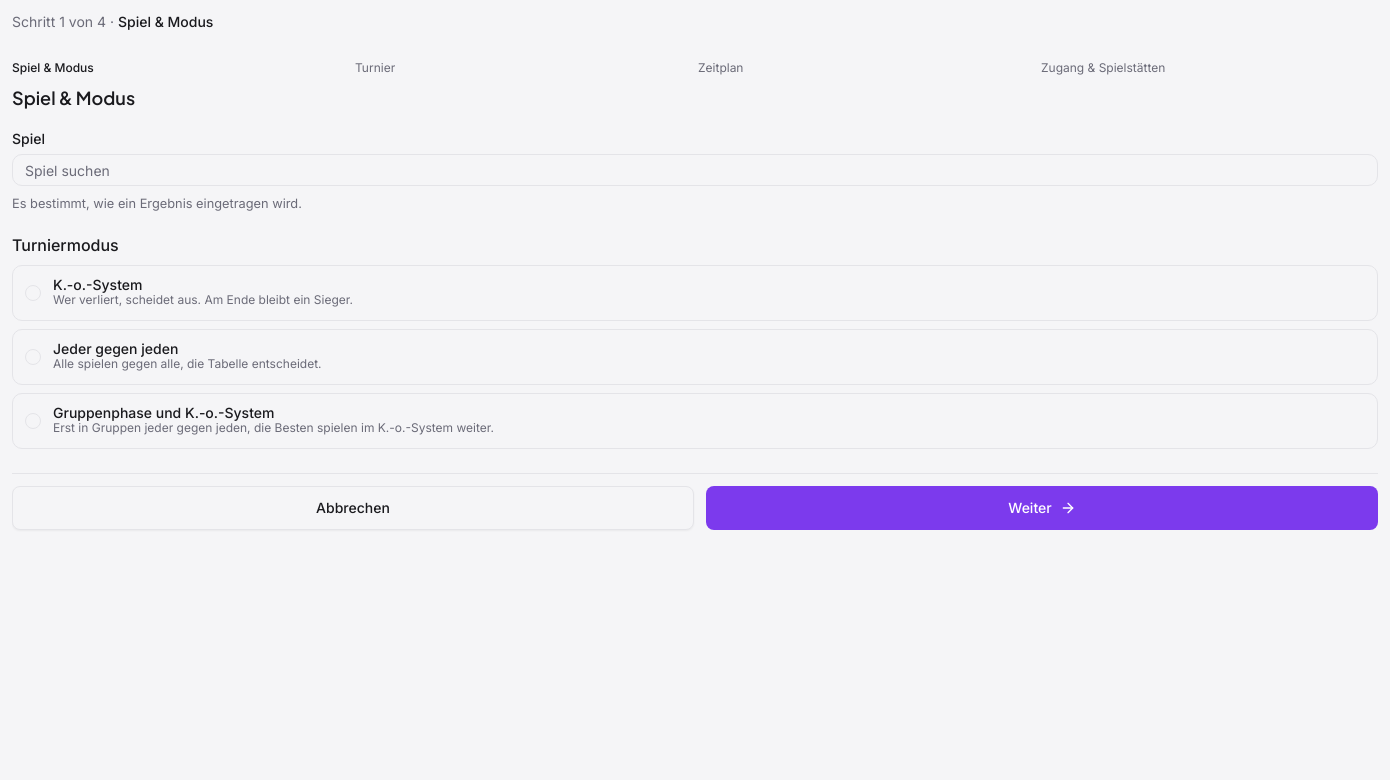
Test case: NewTournamentForm › needs a game and a mode before it goes on
This screenshot has width=1390, height=780.
Click the button "Weiter".
click(1042, 508)  # box left=706, top=486, right=1378, bottom=530
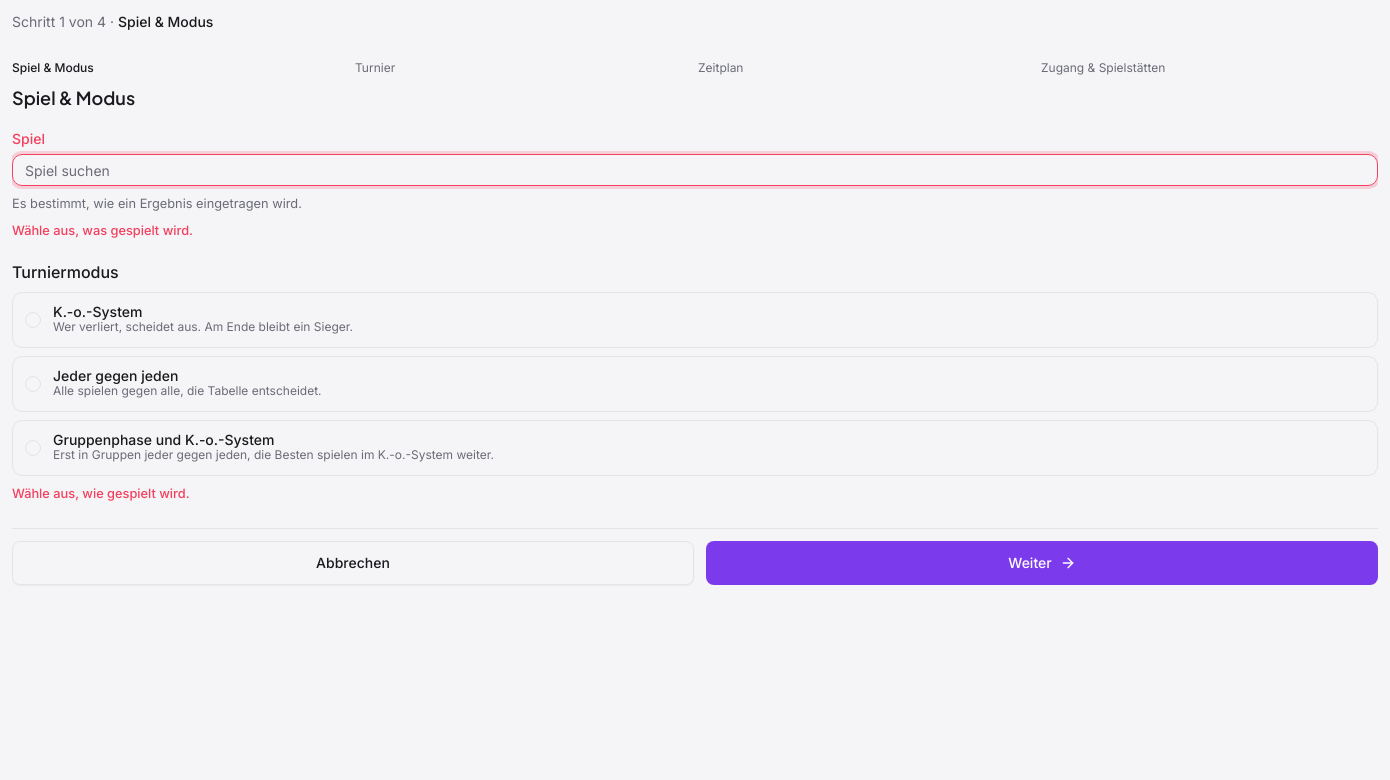
expect the text "Schritt 1 von 4 ·" is shown: met, box left=12, top=13, right=213, bottom=30
expect the text "Wähle aus, was gespielt wird." is shown: met, box left=12, top=223, right=193, bottom=238
expect the text "Wähle aus, wie gespielt wird." is shown: met, box left=12, top=486, right=190, bottom=501
